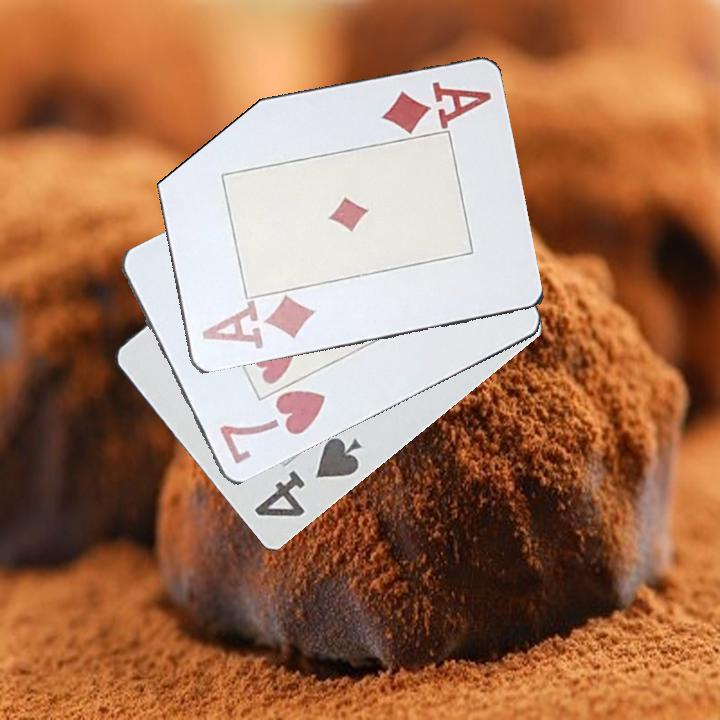4s: (250, 434, 369, 521)
7h: (215, 387, 329, 468)
Ad: (198, 293, 318, 353), (376, 78, 494, 136)
